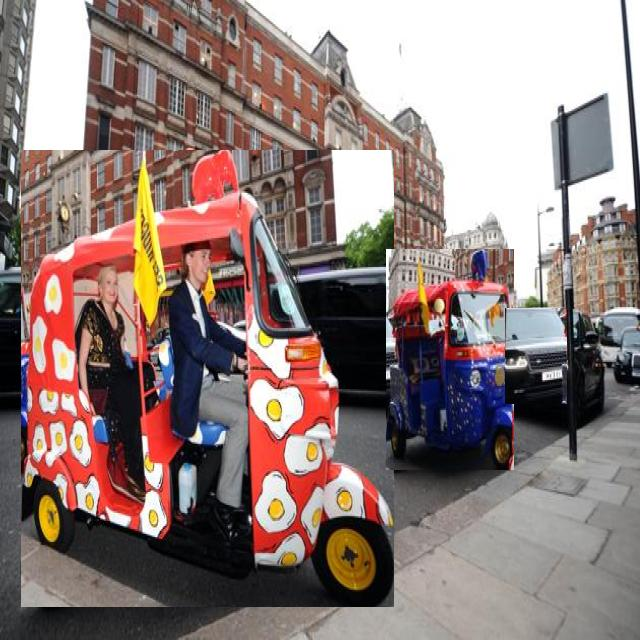autorickshaw: (21, 151, 394, 607), (386, 249, 514, 470)
car: (0, 267, 116, 391), (505, 308, 567, 404)
